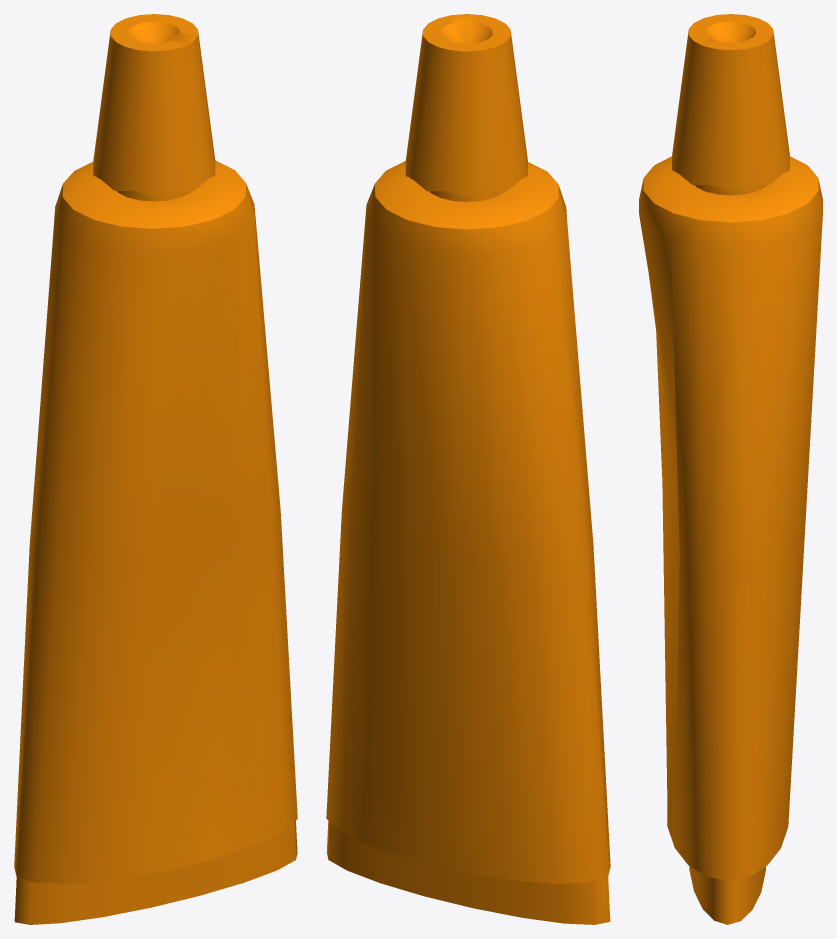
File: Paints2.fbx
3 views of the same model, side by side, from view 1: azimuth 30°, elevation 25°; view 2: azimuth 150°, elevation 25°; view 3: azimuth 270°, elevation 25° (orthographic). The views are drawn at different scales.
Visible parts, largest first — view 1: Paints2; view 2: Paints2; view 3: Paints2.
Boxes of the visible parts, x1,y1,x2,y2 form: Paints2: (14, 14, 297, 924); Paints2: (326, 14, 610, 924); Paints2: (639, 14, 822, 924).
Bounding box in the file's own units: 6.59 × 19.01 × 3.83.
